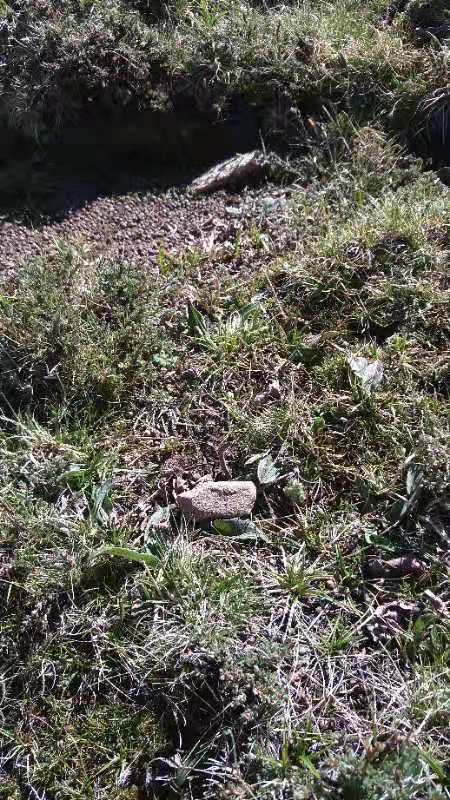Chongcao: (218, 440, 233, 479)
